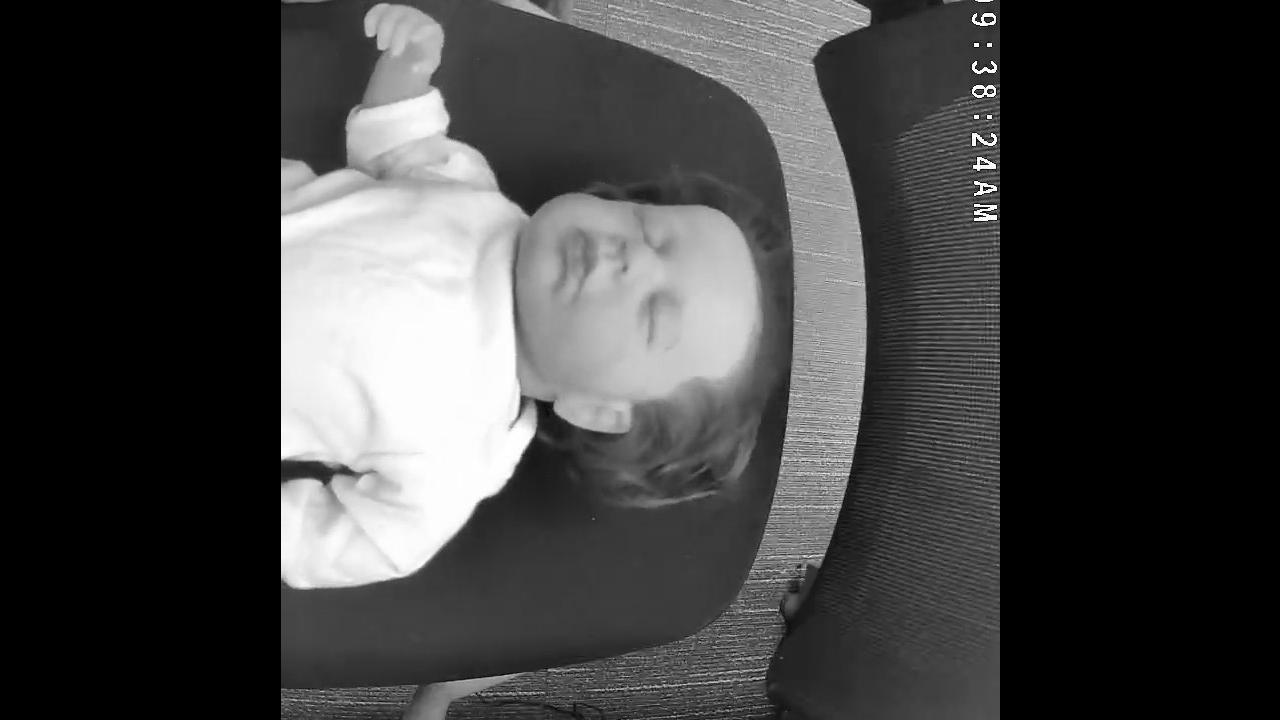hand: (357, 0, 447, 77)
